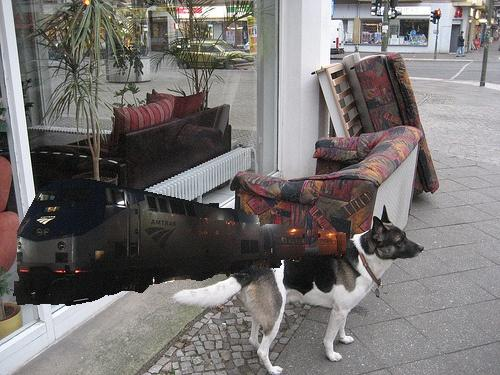tampered: (14, 179, 346, 306)
